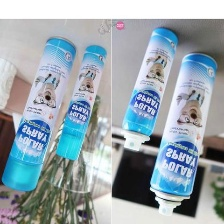aerosol_cans: (0, 32, 79, 193), (147, 49, 220, 218), (119, 25, 181, 155), (50, 40, 110, 165)
